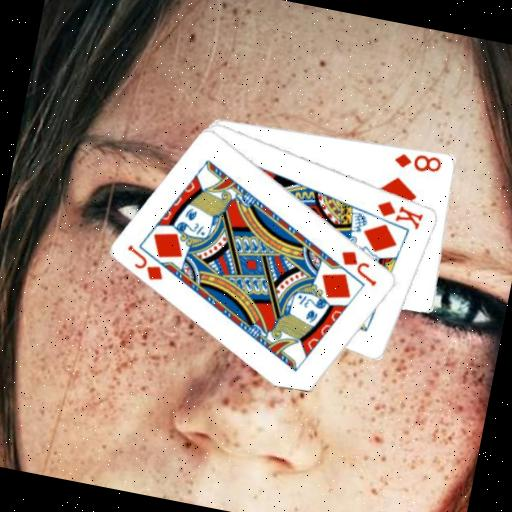8D: (390, 146, 444, 177)
JD: (119, 240, 171, 285), (334, 245, 384, 289)
KD: (371, 196, 427, 232)
